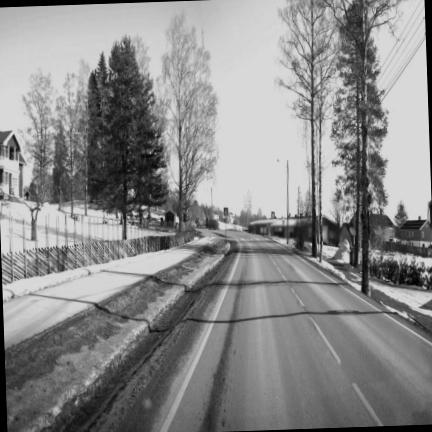Road: (152, 232, 431, 431)
